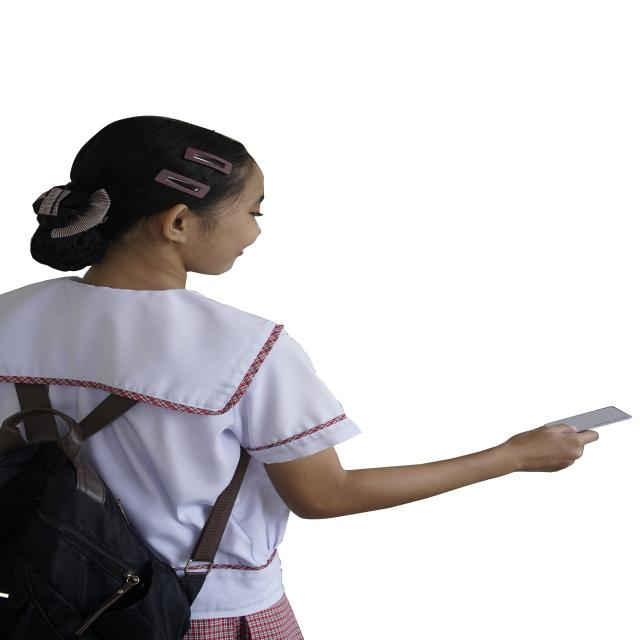pologirl: (0, 277, 360, 619)
skirt: (183, 595, 303, 640)
